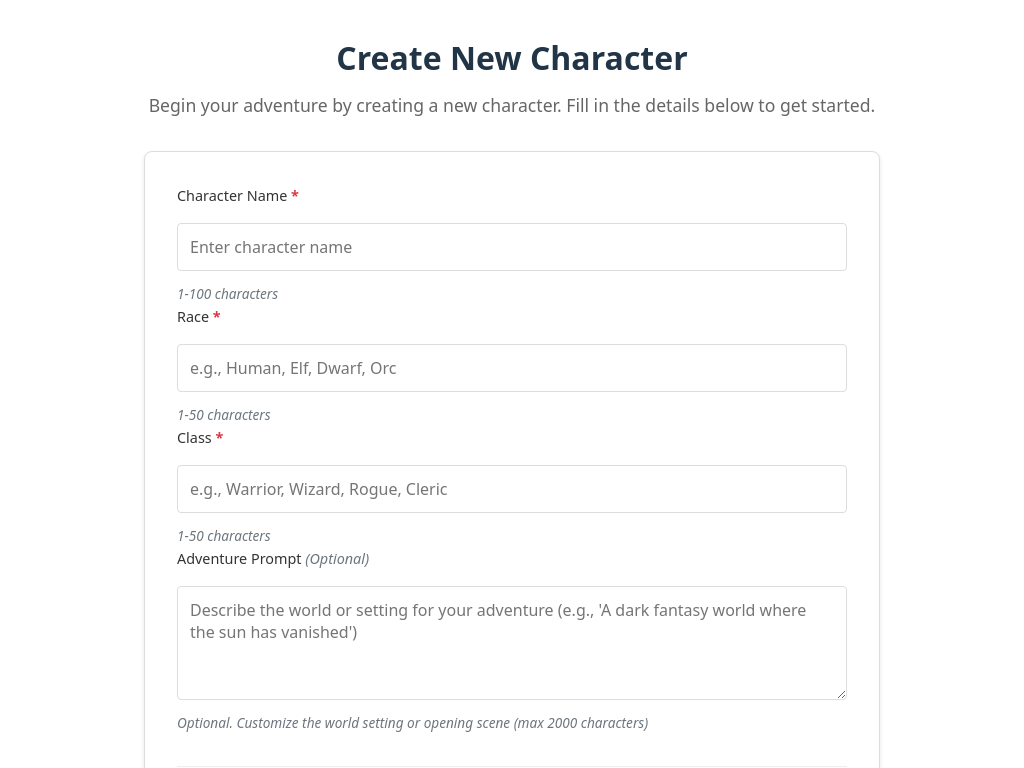
Test case: NewCharacterPage › Client-side Validation › shows error when class is empty
Type "Test Hero" into the field labelled "Character Name *" at {"x": 512, "y": 247}, box [177,223,847,271]
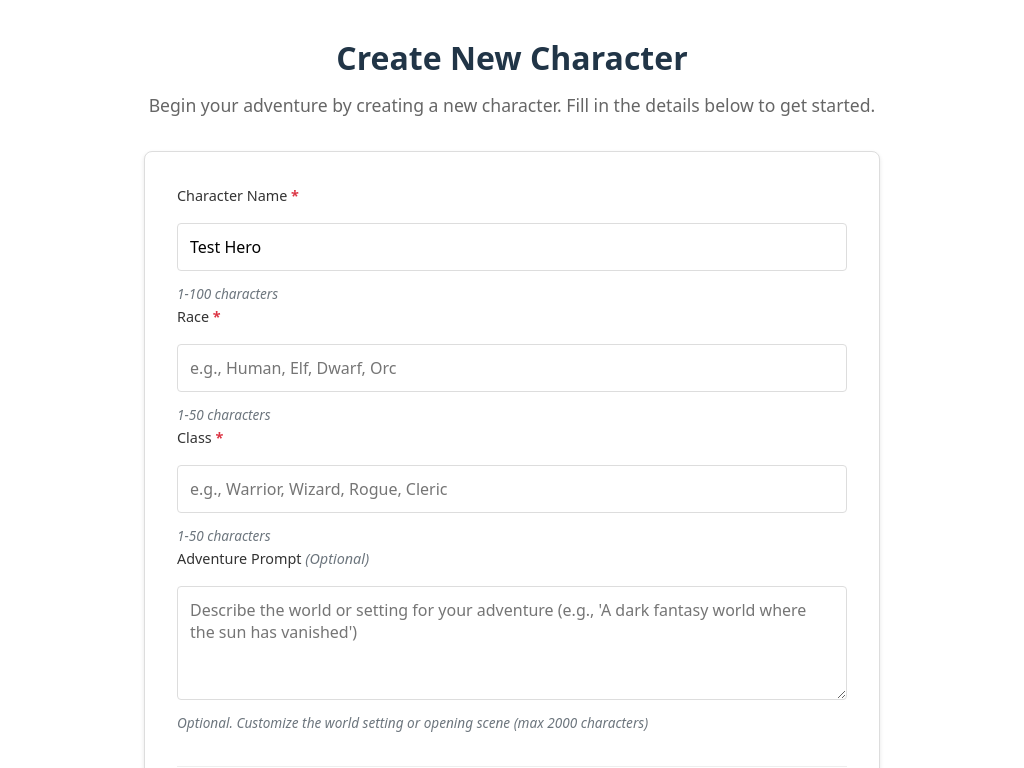
Type "Human" into the field labelled "Race *" at {"x": 512, "y": 368}, box [177,344,847,392]
(page scrolled)
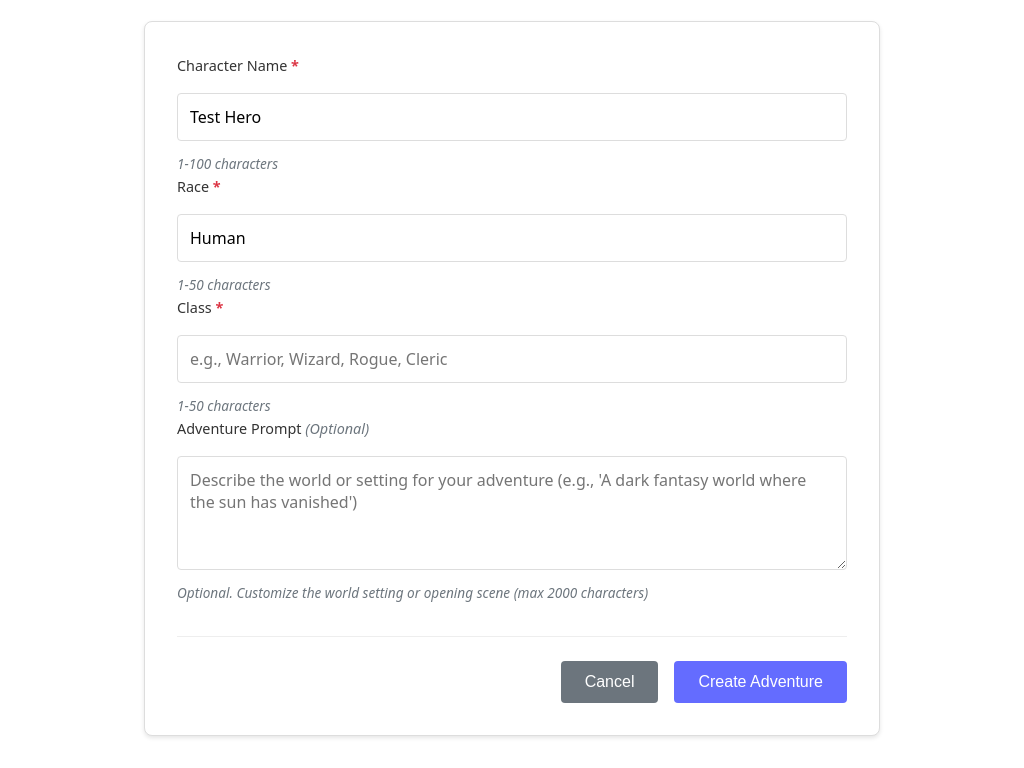
Click the button "Create Adventure" at {"x": 761, "y": 682}, box [674,660,847,702]
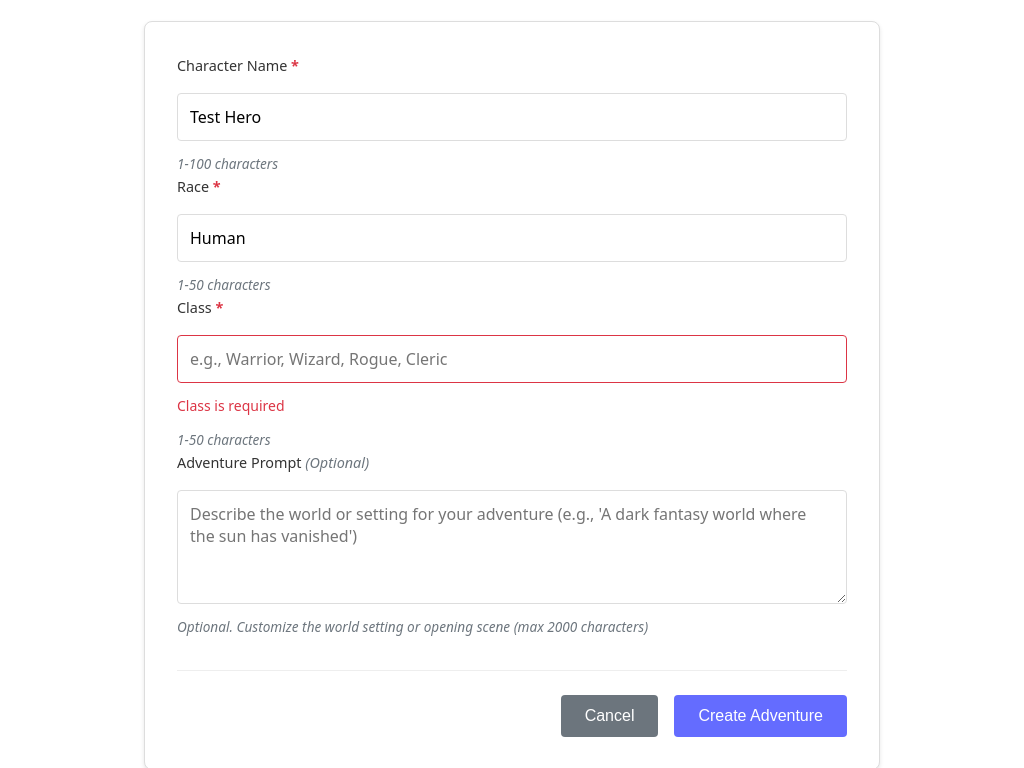
Result: the text "Class is required" is shown at [177,396,285,415]
